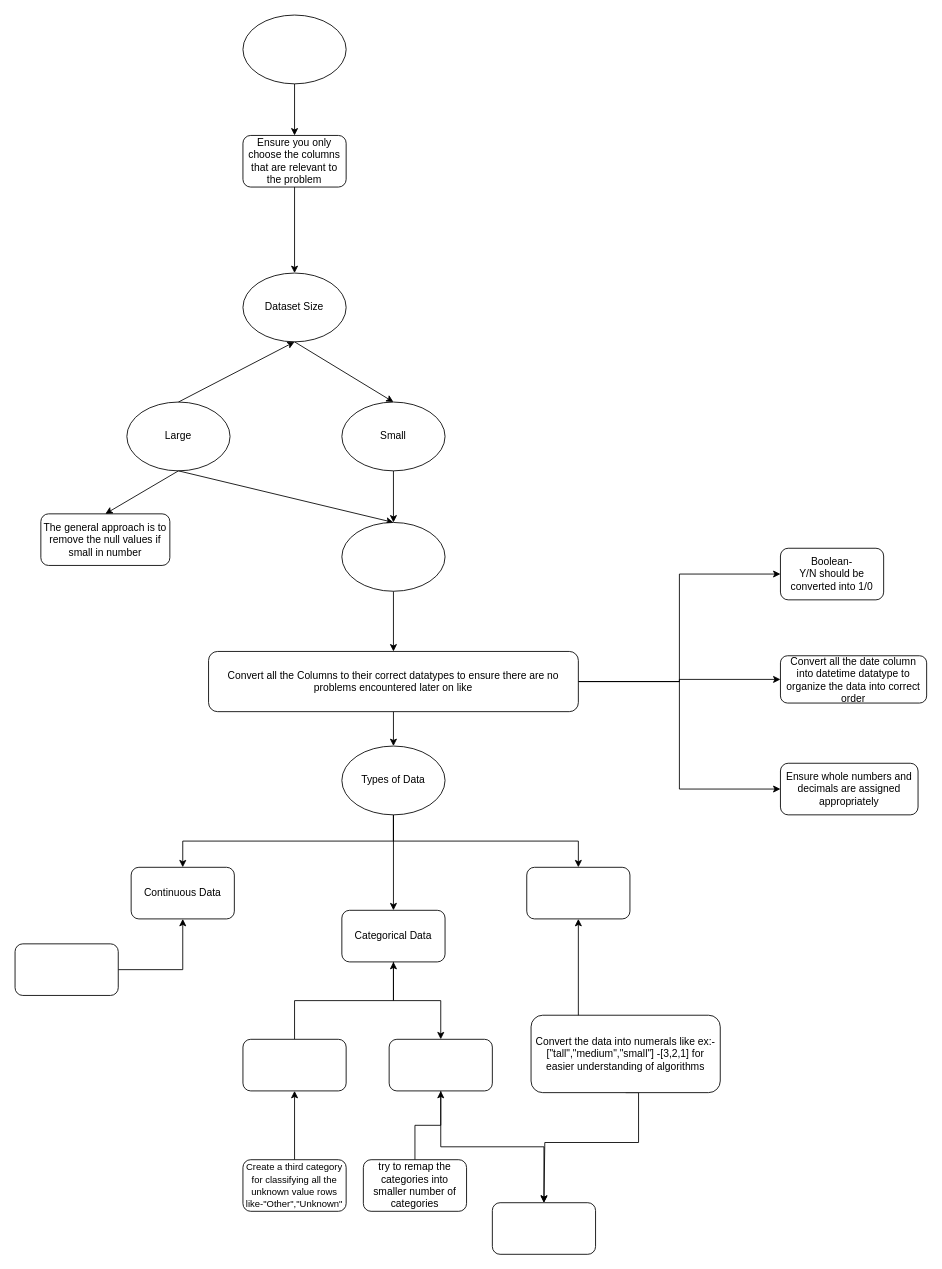
Image size: 942x1269. Some labels were removed from this diagram. The shapes that lost their labels are listed below. From the top down, each one's box as (x1, y1, x2, y2) in pixels, then its label:
(242, 14, 346, 84): Business Objectives
(341, 522, 445, 591): Preprocessing
(526, 866, 630, 919): Ordinal Data (Data that has some defined order)
(14, 943, 118, 995): Mean,Median and Mode are the best ways to smooth out data
(242, 1038, 346, 1091): 2 Categories:
(388, 1038, 492, 1091): Multiple Categories:
(491, 1202, 596, 1254): Classification algorithms to classify the categories
